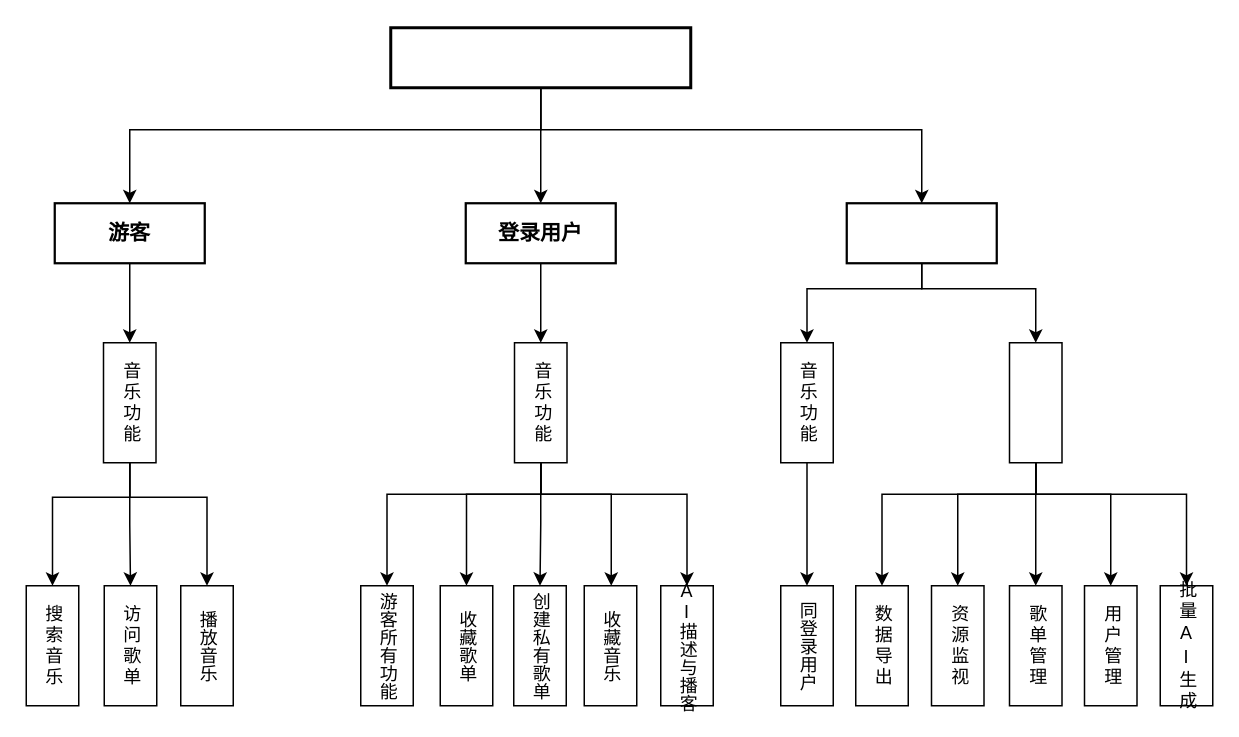
The diagram is 1239 pixels wide and 737 high, and some of its shapes have lost their labels. Here are the shapes that lost their labels. From the top down, the centre of each, then its label:
At pixel 540 57: "基于VUE的音乐播放器".
At pixel 921 232: "管理员".
At pixel 1035 402: "系统后台".
